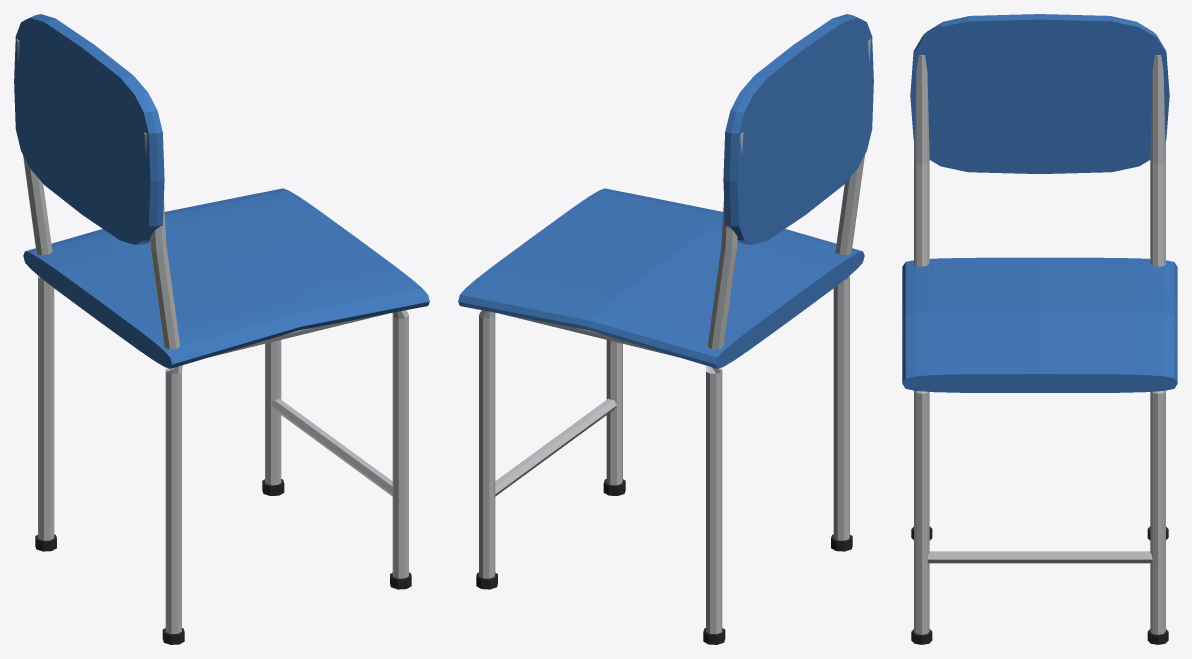
Rendered from SM_Prop_Chair.fbx.
3 views of the same model, side by side, from view 1: azimuth 30°, elevation 25°; view 2: azimuth 150°, elevation 25°; view 3: azimuth 270°, elevation 25° (orthographic). The views are drawn at different scales.
Parts seen in each view (by area): view 1: SM_Prop_Chair; view 2: SM_Prop_Chair; view 3: SM_Prop_Chair.
Part boxes in pixels (<box>): SM_Prop_Chair: <box>14,14,429,644</box>; SM_Prop_Chair: <box>458,14,873,644</box>; SM_Prop_Chair: <box>902,14,1177,644</box>.
Size of the model in its own units: 0.42 by 0.447 by 0.86.
